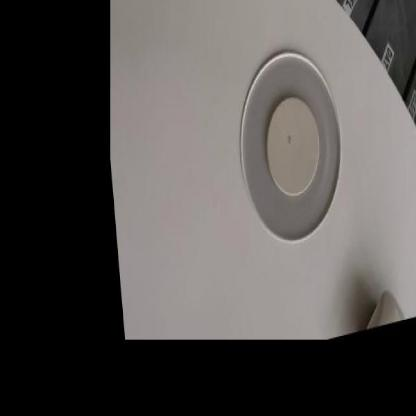light_off: (216, 8, 358, 272)
